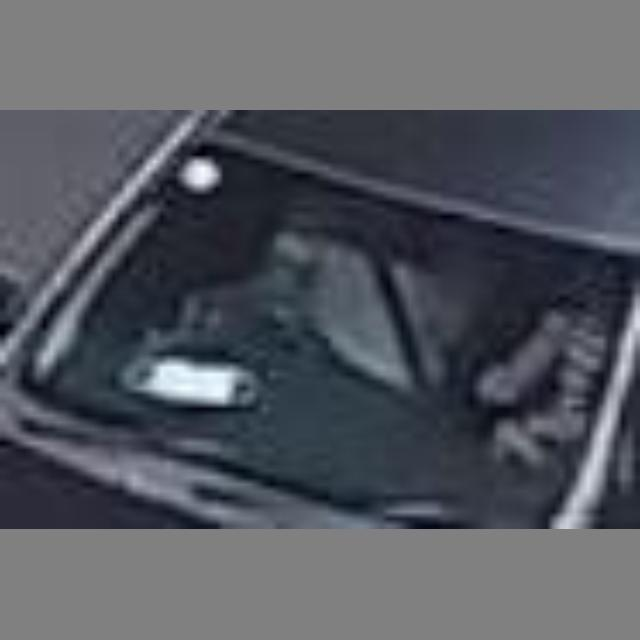pakai: (234, 213, 468, 399)
